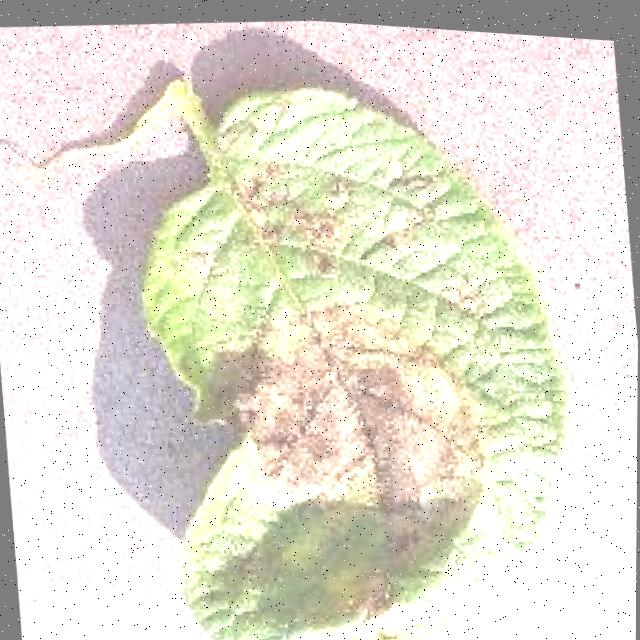Late_blight: (212, 272, 502, 556), (203, 136, 408, 301), (245, 579, 424, 640)
